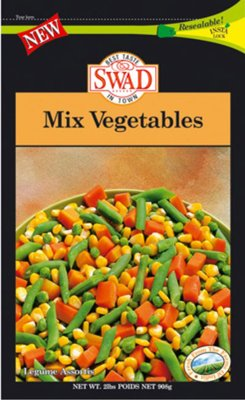sushi: (14, 185, 232, 390)
